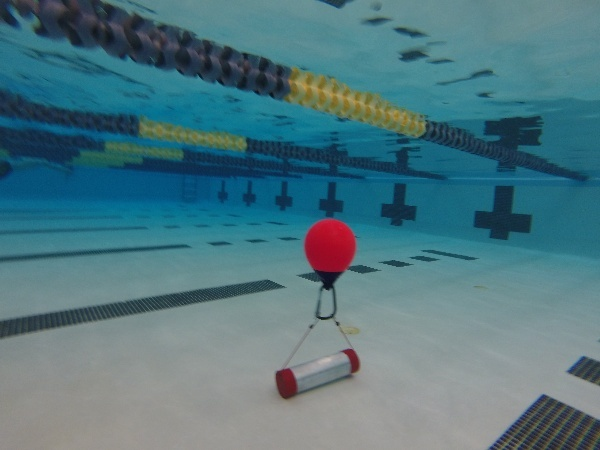buoy_red: (301, 217, 359, 291)
